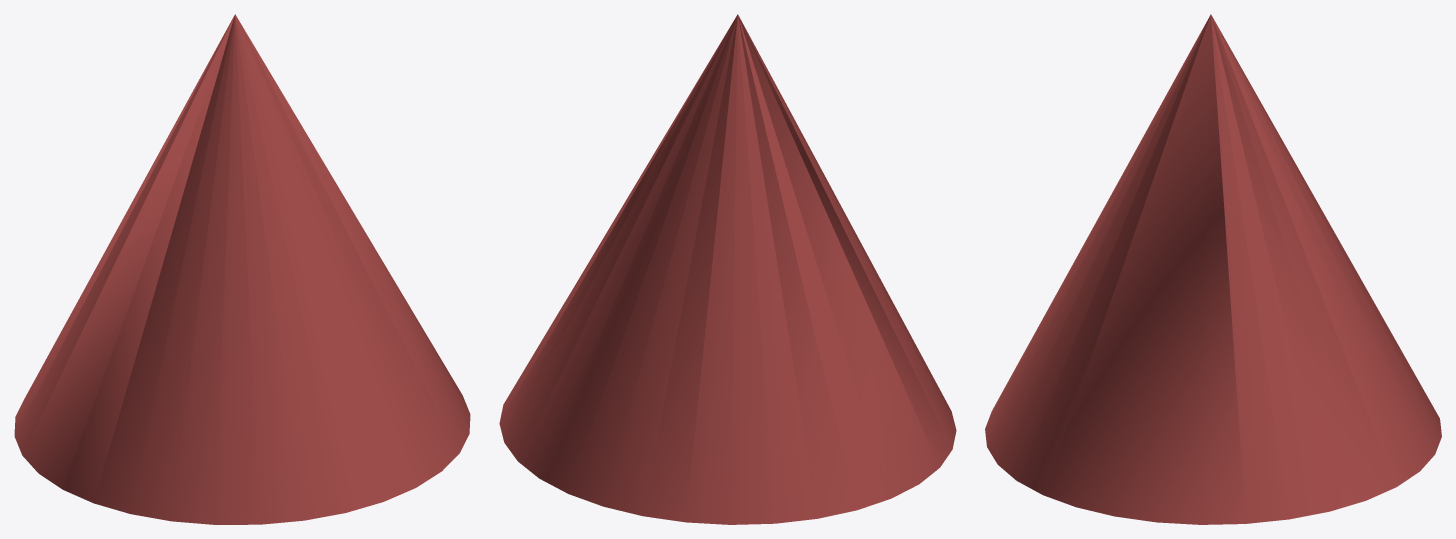
Rendered from traingel.fbx.
3 views of the same model, side by side, from view 1: azimuth 30°, elevation 25°; view 2: azimuth 150°, elevation 25°; view 3: azimuth 270°, elevation 25° (orthographic).
Parts seen in each view (by area): view 1: triangel; view 2: triangel; view 3: triangel.
Part boxes in pixels (left/top/right/bottom): triangel: left=14, top=14, right=470, bottom=524; triangel: left=499, top=14, right=956, bottom=524; triangel: left=985, top=14, right=1441, bottom=524.
Bounding box in the file's own units: 26.98 × 27.32 × 26.98.
